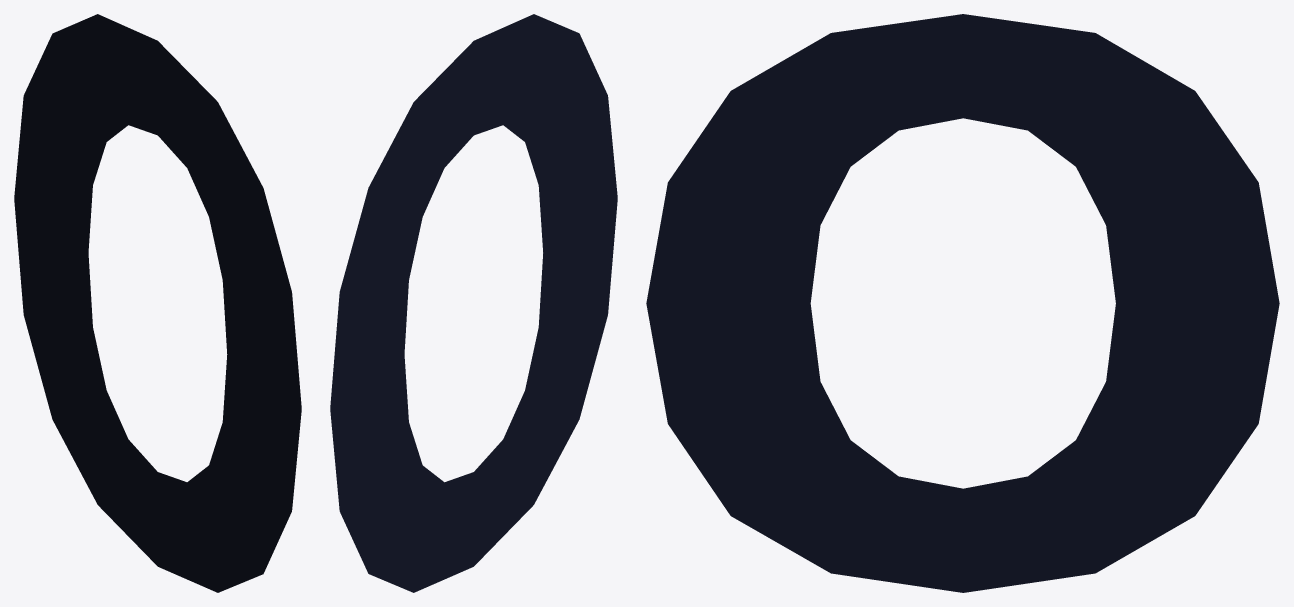
File: lat_glyph_O.dae
3 views of the same model, side by side, from view 1: azimuth 30°, elevation 25°; view 2: azimuth 150°, elevation 25°; view 3: azimuth 270°, elevation 25° (orthographic). The views are drawn at different scales.
Visible parts, largest first — view 1: lat_glyph_O8; view 2: lat_glyph_O8; view 3: lat_glyph_O8.
Boxes of the visible parts, x1,y1,x2,y2 form: lat_glyph_O8: (14,14,301,592); lat_glyph_O8: (330,14,617,592); lat_glyph_O8: (646,14,1279,592).
Size of the model in its own units: 0 by 1.03 by 1.04.
